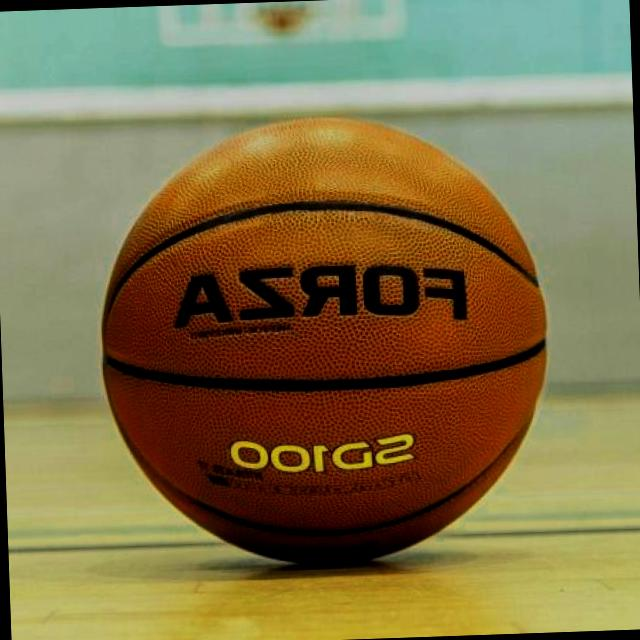ball: (92, 102, 558, 572)
